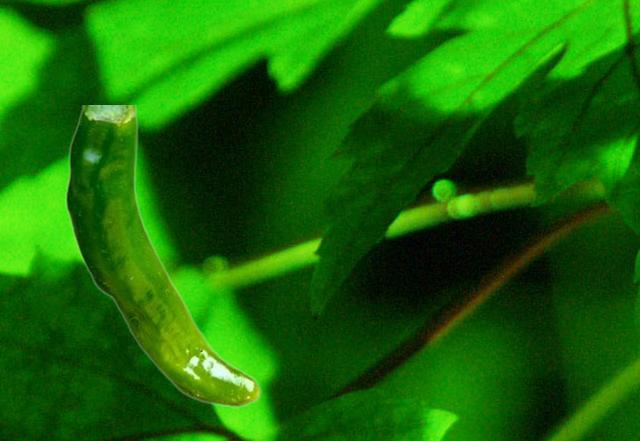green_chili: (65, 105, 260, 407)
